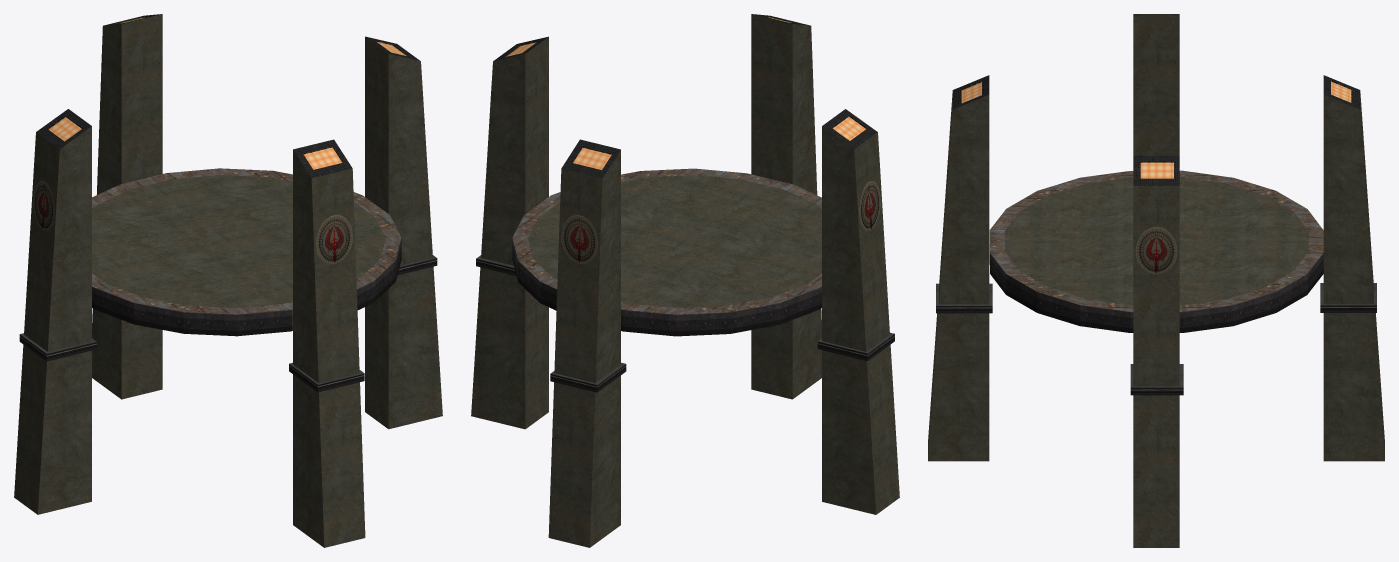
Rendered from mistyflagstand4.fbx.
3 views of the same model, side by side, from view 1: azimuth 30°, elevation 25°; view 2: azimuth 150°, elevation 25°; view 3: azimuth 270°, elevation 25° (orthographic). The views are drawn at different scales.
Visible parts, largest first — view 1: Object; view 2: Object; view 3: Object.
Part boxes in pixels (x1,y1,x2,y2): Object: (14, 14, 442, 547); Object: (471, 14, 899, 547); Object: (928, 14, 1384, 547).
Size of the model in its own units: 5944 by 5269 by 5950.
